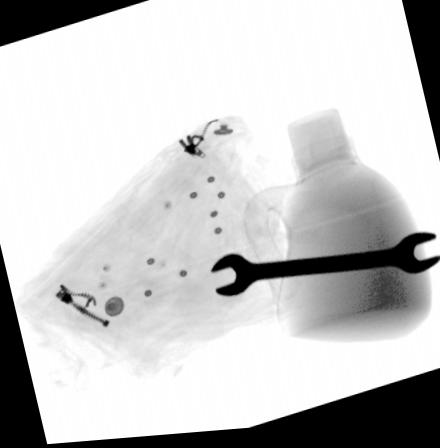Wrench: (207, 236, 440, 301)
